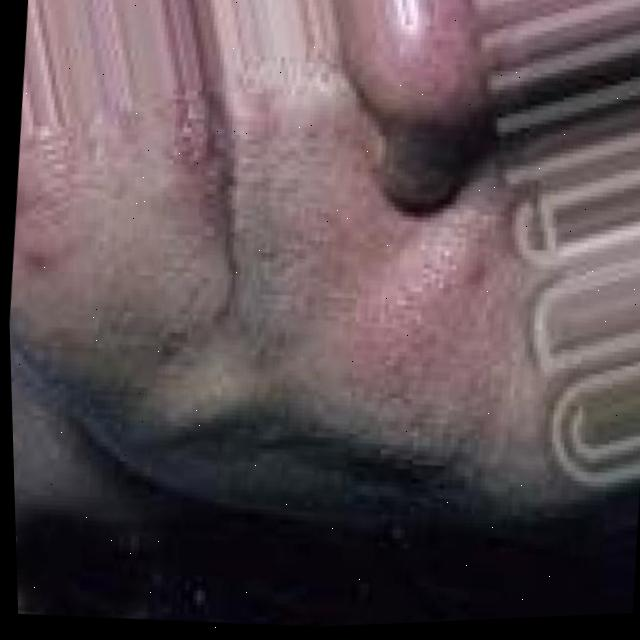Rosacea: (445, 244, 494, 306)
